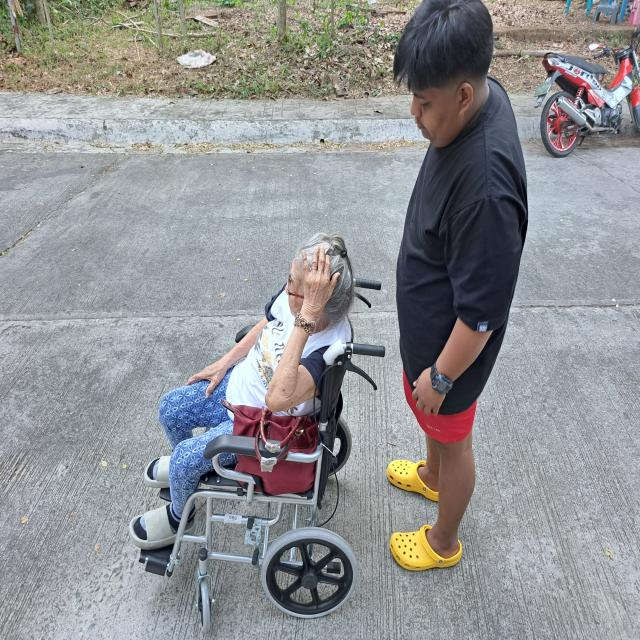wheelchairs: (137, 276, 386, 630)
